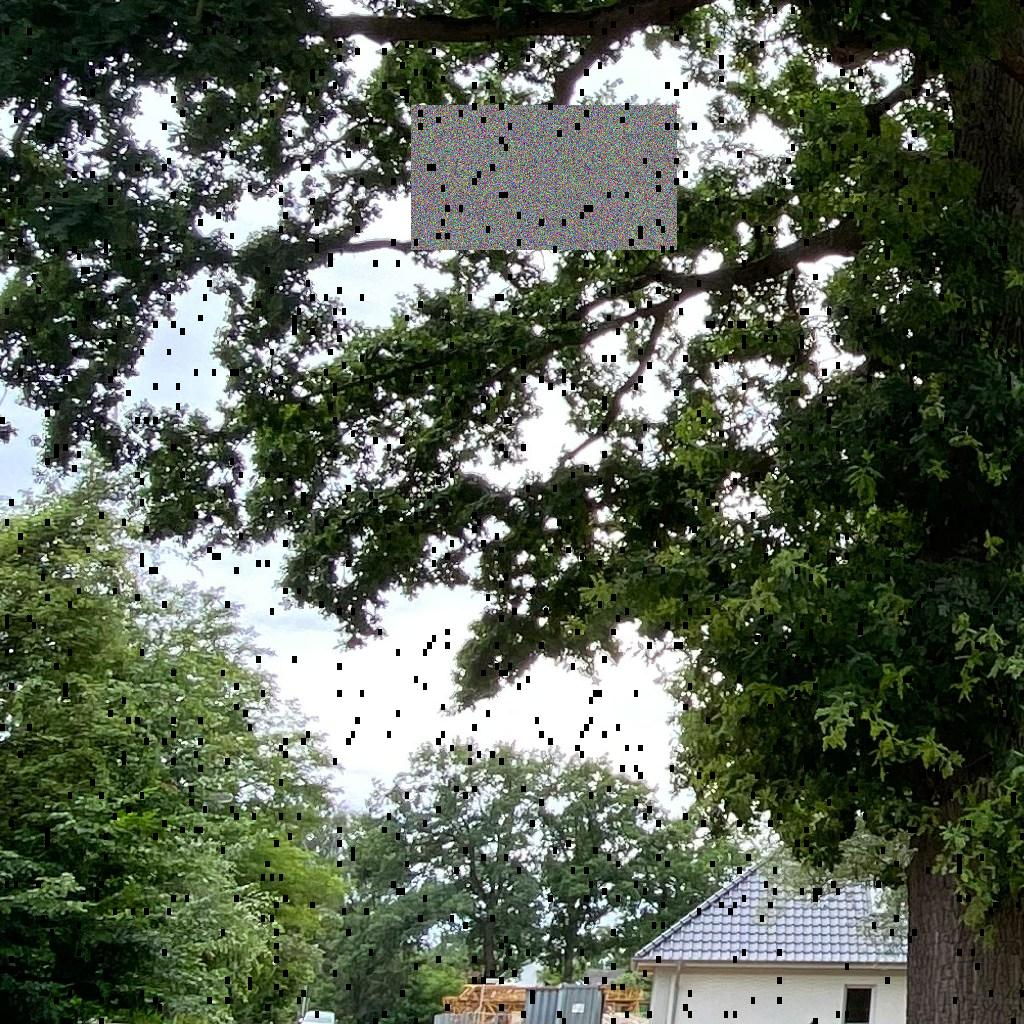tree: (1, 1, 1023, 1023), (1, 498, 354, 1024), (351, 735, 634, 979), (536, 773, 658, 982), (606, 804, 760, 948)
